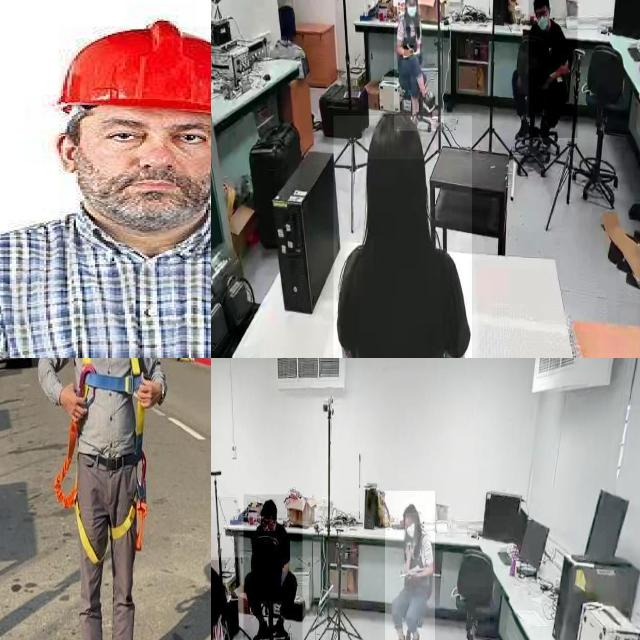Harness: (54, 422, 103, 564), (111, 403, 148, 552), (78, 358, 143, 396)
No_Ear-Protection: (39, 24, 211, 237)
face_mask: (405, 0, 420, 26), (406, 513, 418, 545), (536, 8, 550, 30)
face_nomask: (261, 517, 274, 531)
hand_noglove: (404, 543, 414, 561), (406, 570, 418, 581), (404, 45, 414, 57)
head_nohelmet: (366, 110, 424, 160), (211, 560, 226, 610), (260, 499, 277, 517), (402, 503, 418, 517), (532, 0, 549, 6)
person: (333, 115, 472, 358), (243, 494, 302, 640), (384, 491, 435, 640), (528, 0, 577, 139), (394, 0, 444, 130)
shoes: (272, 612, 294, 640), (252, 617, 270, 640), (420, 90, 434, 114), (408, 623, 422, 640), (389, 634, 410, 640)
